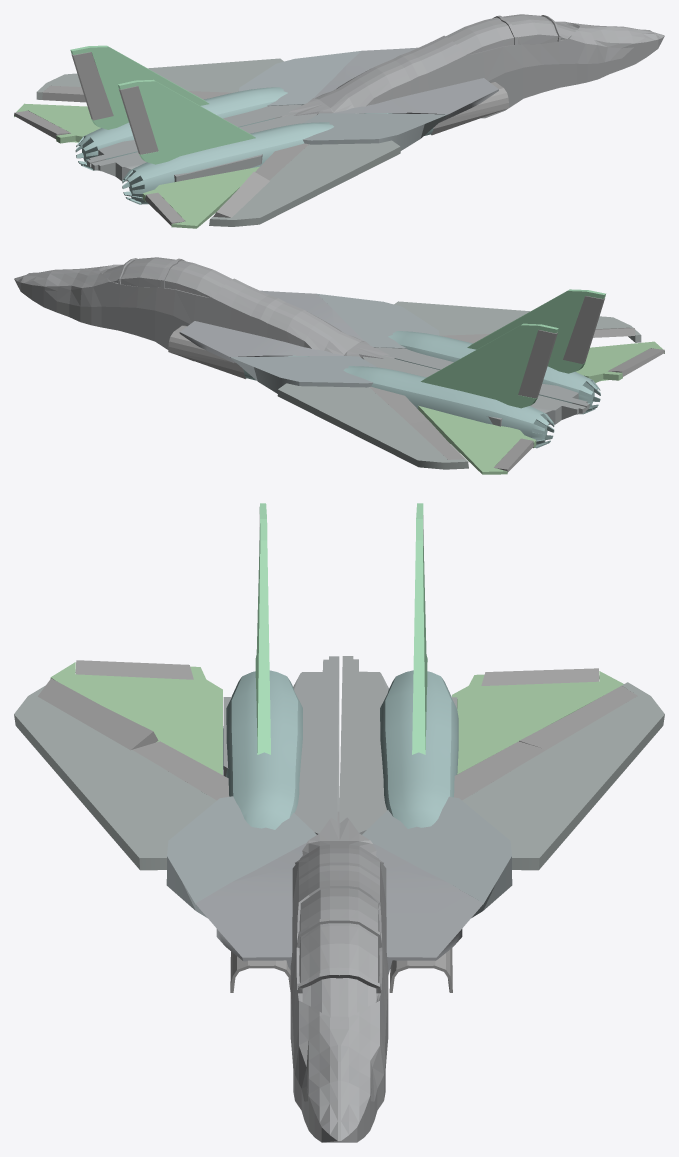
The picture shows the model from 3 angles, top to bottom: view 1: azimuth 30°, elevation 25°; view 2: azimuth 150°, elevation 25°; view 3: azimuth 270°, elevation 25°; orthographic projection. The views are drawn at different scales.
Visible parts, largest first — view 1: Cockpit, Top_Wing (×2), Front_Wing_Right, Flap_A (×5), Back_Wing (×2), Engine_A, Engine_B (×2), Shoulder_B_R, Shoulder_B, Front_Wing, Shoulder_A_R, Body_Right (+3 smaller); view 2: Cockpit, Top_Wing (×2), Engine_B (×2), Front_Wing, Back_Wing (×2), Flap_A (×5), Shoulder_B, Shoulder_B_R, Front_Wing_Right, Shoulder_A, Engine_A, Body_ALeft (+3 smaller); view 3: Cockpit, Back_Wing (×2), Front_Wing, Front_Wing_Right, Engine_B (×2), Engine_A, Shoulder_B_R, Shoulder_B, Flap_A (×4), Shoulder_A, Shoulder_A_R, Body_ALeft (+3 smaller).
Boxes of the visible parts, bbox=[...] form: Cockpit: bbox=[282, 14, 664, 118]; Top_Wing (×2): bbox=[70, 45, 255, 164]; Front_Wing_Right: bbox=[209, 140, 400, 226]; Flap_A (×5): bbox=[14, 52, 308, 225]; Back_Wing (×2): bbox=[14, 103, 259, 228]; Engine_A: bbox=[122, 113, 433, 204]; Engine_B (×2): bbox=[75, 82, 508, 170]; Shoulder_B_R: bbox=[303, 113, 448, 150]; Shoulder_B: bbox=[239, 51, 360, 106]; Front_Wing: bbox=[36, 58, 283, 99]; Shoulder_A_R: bbox=[334, 78, 498, 122]; Body_Right: bbox=[91, 113, 317, 181]; Cockpit: bbox=[14, 257, 394, 361]; Top_Wing (×2): bbox=[421, 289, 605, 408]; Engine_B (×2): bbox=[168, 325, 554, 448]; Front_Wing: bbox=[277, 383, 468, 469]; Back_Wing (×2): bbox=[418, 341, 664, 474]; Flap_A (×5): bbox=[369, 296, 664, 472]; Shoulder_B: bbox=[230, 356, 376, 393]; Shoulder_B_R: bbox=[317, 294, 439, 348]; Front_Wing_Right: bbox=[394, 301, 641, 342]; Shoulder_A: bbox=[179, 321, 343, 362]; Engine_A: bbox=[388, 331, 600, 414]; Body_ALeft: bbox=[362, 355, 585, 426]; Cockpit: bbox=[290, 811, 388, 1142]; Back_Wing (×2): bbox=[50, 662, 623, 774]; Front_Wing: bbox=[462, 682, 664, 870]; Front_Wing_Right: bbox=[14, 685, 216, 870]; Engine_B (×2): bbox=[380, 670, 458, 992]; Engine_A: bbox=[223, 670, 302, 829]; Shoulder_B_R: bbox=[166, 796, 316, 917]; Shoulder_B: bbox=[362, 796, 512, 917]; Flap_A (×4): bbox=[75, 660, 599, 800]; Shoulder_A: bbox=[372, 843, 483, 974]; Shoulder_A_R: bbox=[195, 843, 306, 969]; Body_ALeft: bbox=[339, 656, 457, 834].
Size of the model in its own units: 31.13 by 6.79 by 18.41.
